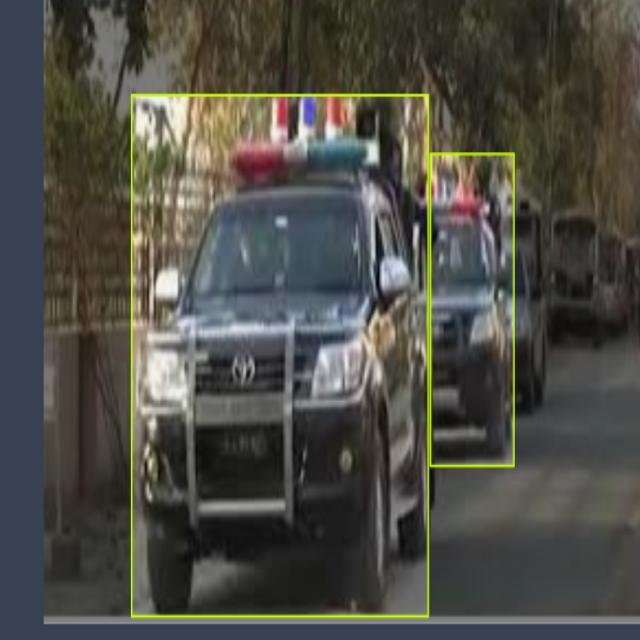police_car: (134, 100, 430, 598), (418, 157, 511, 471)
